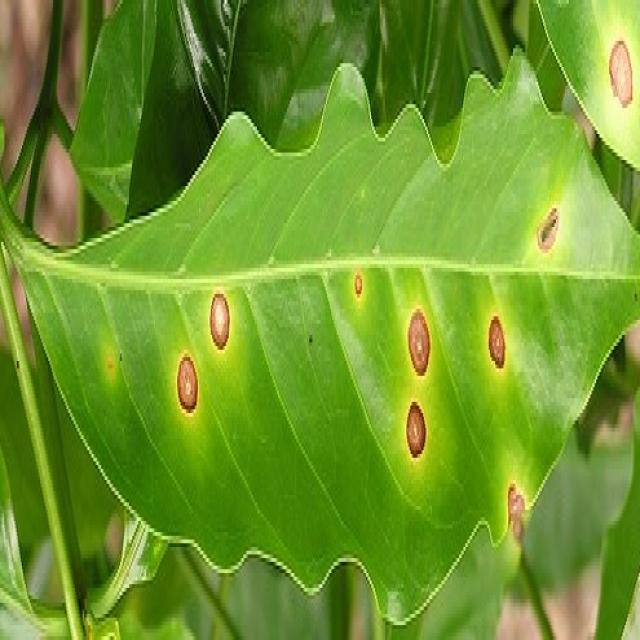Enfermedad-Mancha-de-hierro: (0, 48, 640, 640)
